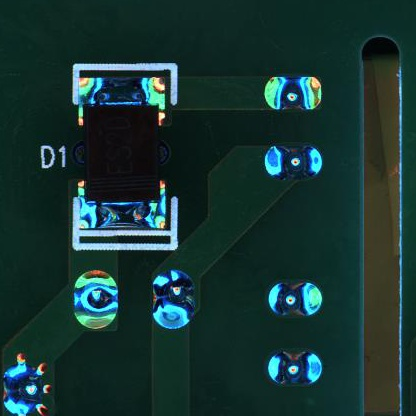spot: (3, 351, 53, 416), (72, 268, 119, 331), (150, 269, 197, 331), (263, 142, 326, 182), (265, 345, 325, 387), (264, 276, 323, 318), (262, 74, 323, 113)
